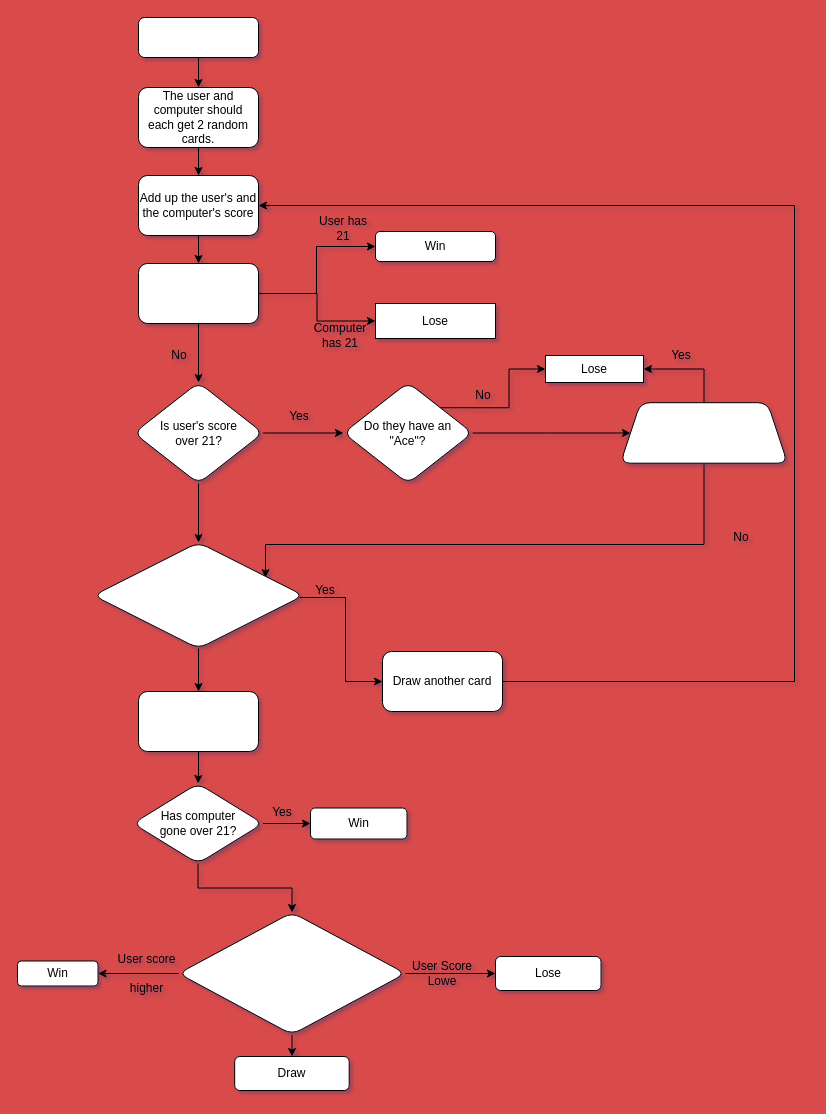
The diagram is 826 pixels wide and 1114 high, and some of its shapes have lost their labels. Here are the shapes that lost their labels. From the top down, the centre of each, then its label:
point 198,37: START
point 198,293: Does the user or computer have a blackjack? (ace + 10)
point 704,432: If the ace counts as a 1 instead of 11, are they still over 21?
point 198,595: Ask the user if they want to get an other card.
point 198,721: Computer plays, if score is less than 17, keep drawing card.
point 292,973: Compare user score with computer score to see if user score is higher?
